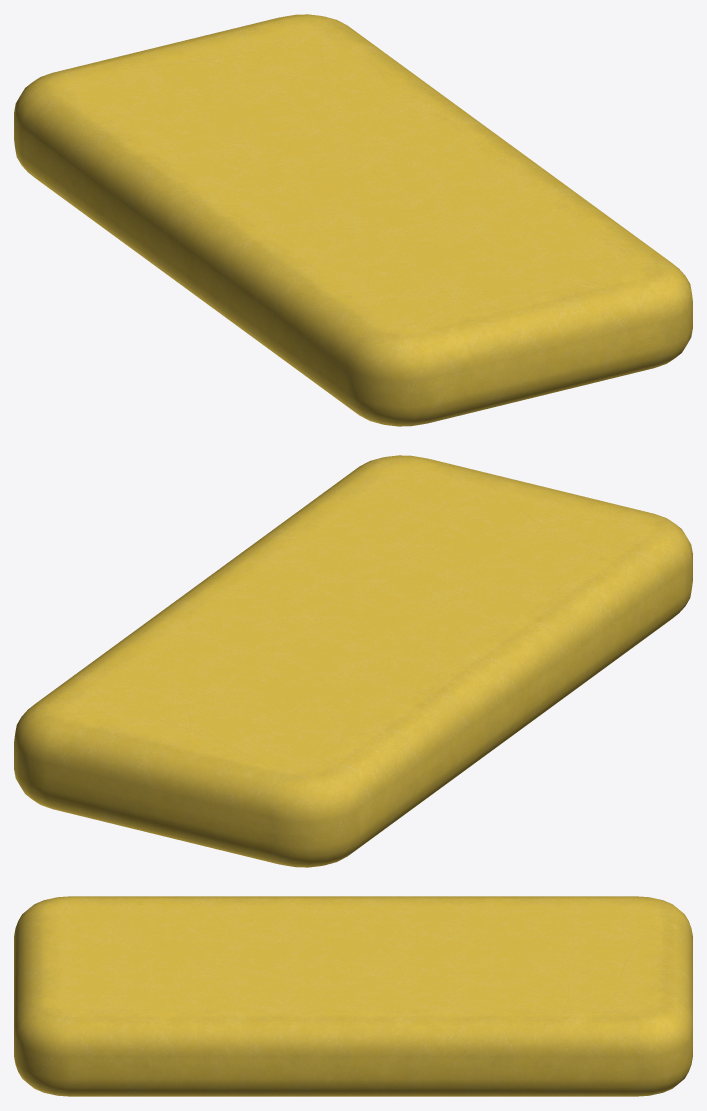
File: 1000g-altin.glb
The picture shows the model from 3 angles, top to bottom: view 1: azimuth 30°, elevation 25°; view 2: azimuth 150°, elevation 25°; view 3: azimuth 270°, elevation 25°; orthographic projection. The views are drawn at different scales.
Visible parts, largest first — view 1: SM_asset_goldingot1kg_001; view 2: SM_asset_goldingot1kg_001; view 3: SM_asset_goldingot1kg_001.
Boxes of the visible parts, x1,y1,x2,y2 form: SM_asset_goldingot1kg_001: (14,14,692,426); SM_asset_goldingot1kg_001: (14,455,692,867); SM_asset_goldingot1kg_001: (14,896,692,1096).
Size of the model in its own units: 0.04 by 0.01 by 0.08.
Materials: 1 (1 with a texture image).
